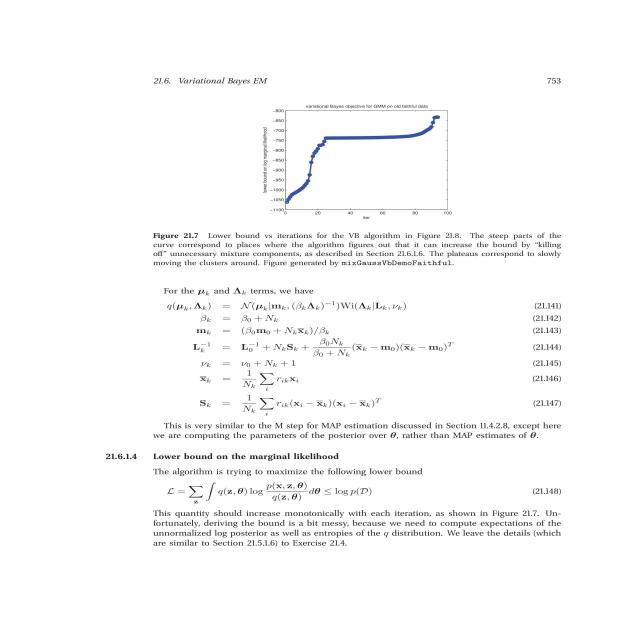diagram: (98, 88, 640, 266)
